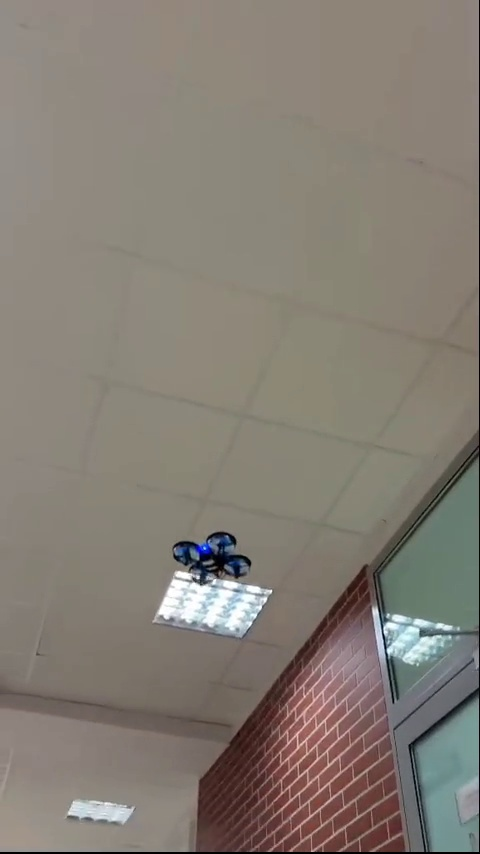drone: (171, 532, 254, 589)
